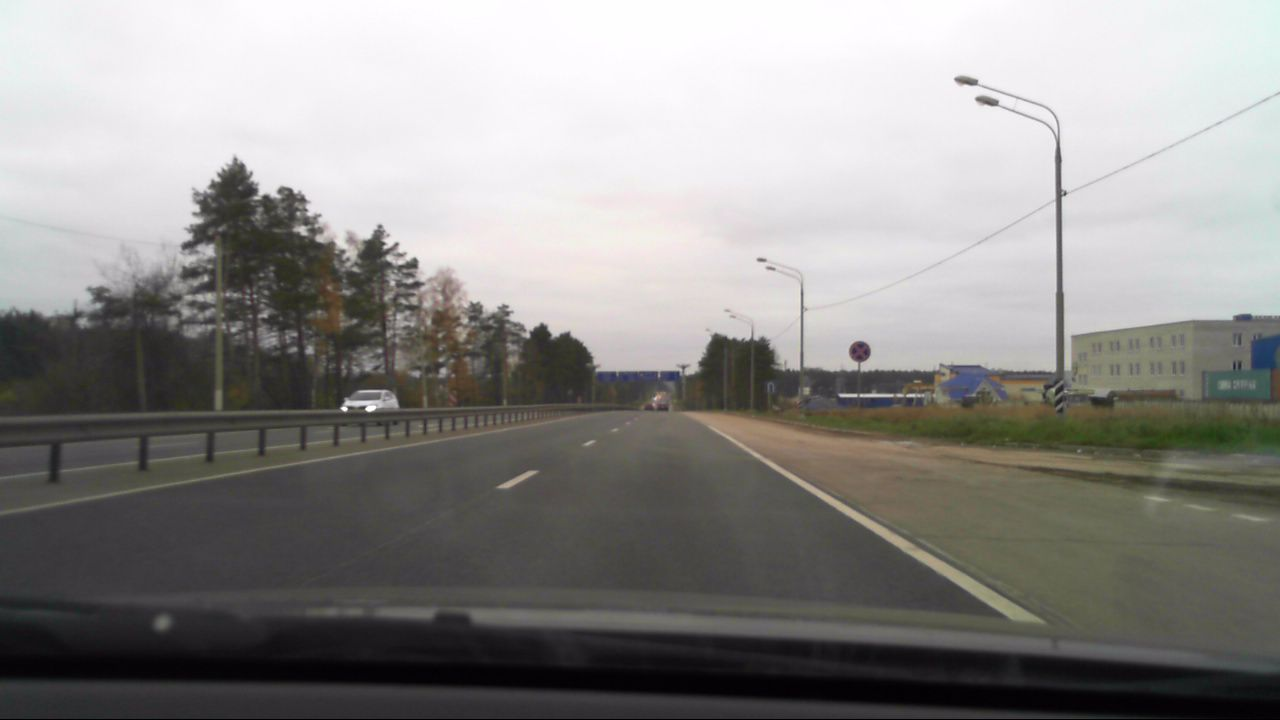No Parking: (845, 339, 872, 365)
